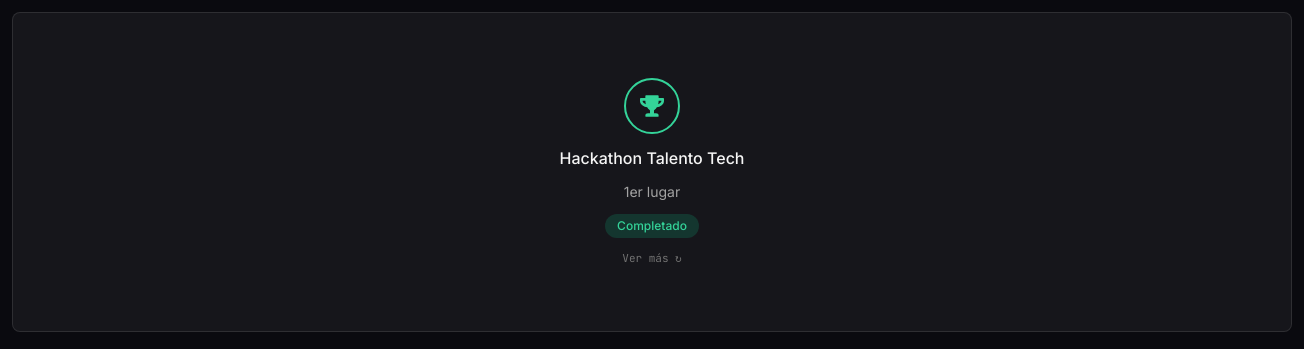
AchievementMedal › flips to reveal the photo and blog link when the front is clicked
Click the button with aria-label "ver más sobre" at (652, 172), box [12,12,1292,332]
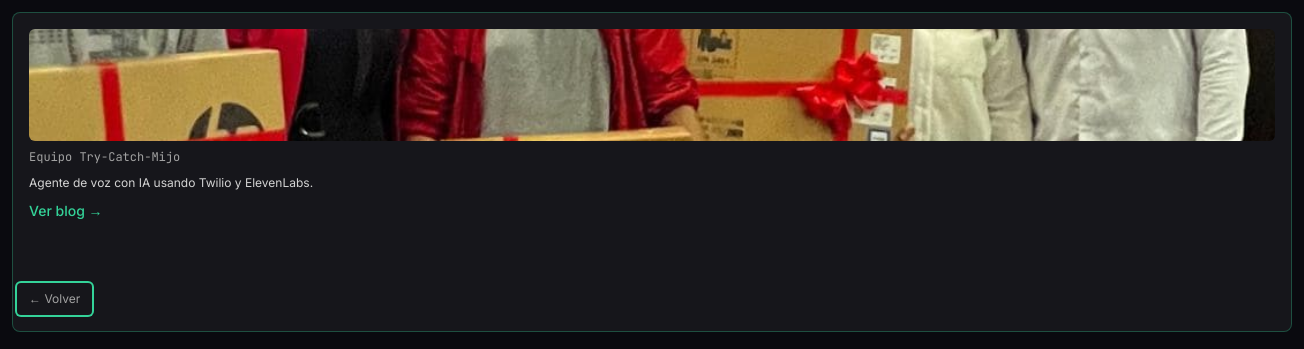
Expected: the text "Equipo Try-Catch-Mijo" is shown, [29,149,180,165]
Expected: the button with aria-label "ver más sobre" is expanded
